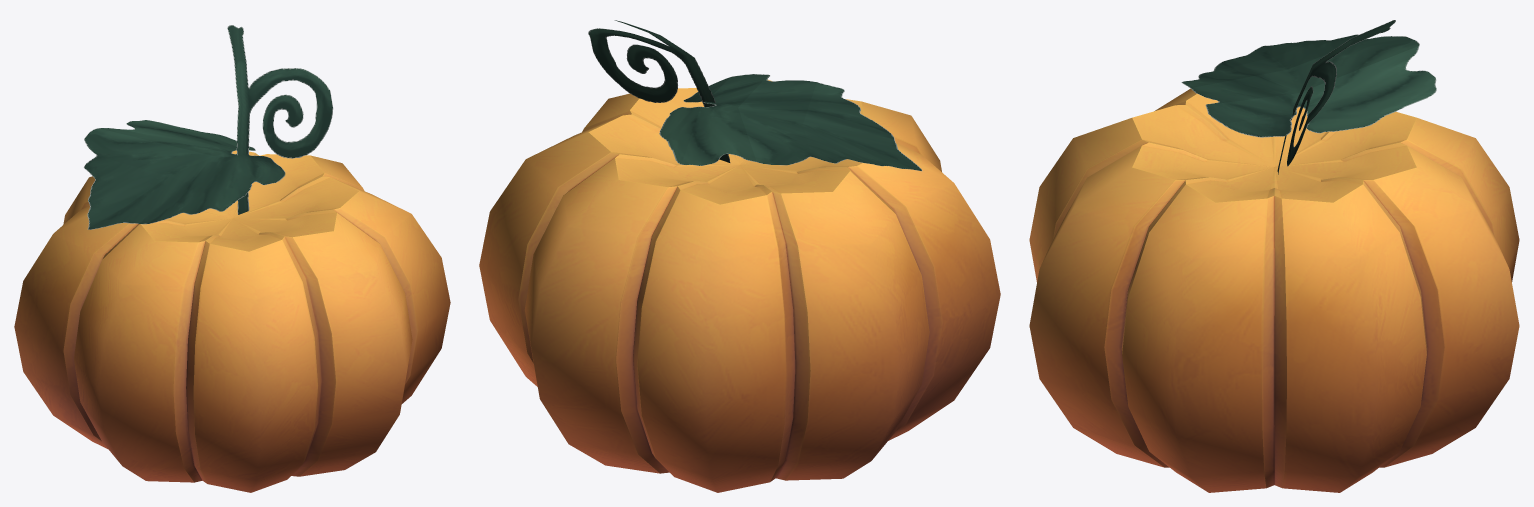
File: SM_Pumpkin.fbx
The picture shows the model from 3 angles, left to right: view 1: azimuth 30°, elevation 25°; view 2: azimuth 150°, elevation 25°; view 3: azimuth 270°, elevation 25°; orthographic projection. The views are drawn at different scales.
Parts seen in each view (by area): view 1: Cylinder.002; view 2: Cylinder.002; view 3: Cylinder.002.
Part boxes in pixels (x1,y1,x2,y2): Cylinder.002: (14,25,450,492); Cylinder.002: (479,20,1000,492); Cylinder.002: (1029,20,1519,492).
Bounding box in the file's own units: 154 × 158 × 154.
